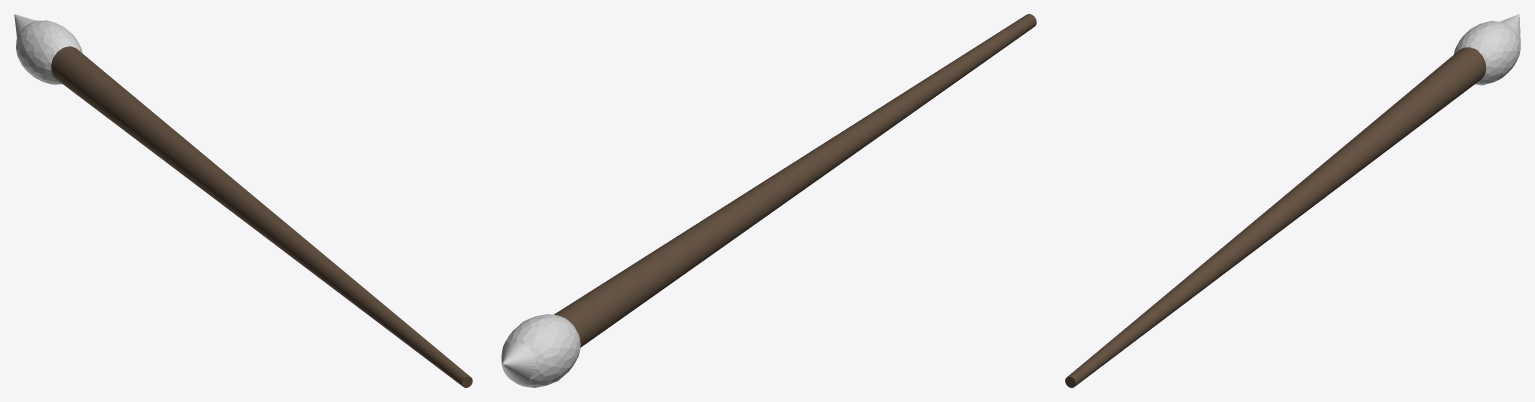
File: PaintBrush.glb
The picture shows the model from 3 angles, left to right: view 1: azimuth 30°, elevation 25°; view 2: azimuth 150°, elevation 25°; view 3: azimuth 330°, elevation 25°; orthographic projection. The views are drawn at different scales.
Visible parts, largest first — view 1: Handle, Brush; view 2: Handle, Brush, PaintTip; view 3: Handle, Brush.
Boxes of the visible parts, bbox=[...] form: Handle: bbox=[51, 46, 472, 387]; Brush: bbox=[16, 20, 82, 84]; Handle: bbox=[554, 14, 1036, 347]; Brush: bbox=[501, 314, 580, 387]; PaintTip: bbox=[501, 342, 536, 383]; Handle: bbox=[1065, 47, 1486, 387]; Brush: bbox=[1454, 21, 1520, 85].
Bounding box in the file's own units: 0.0238 × 0.0255 × 0.3699.
